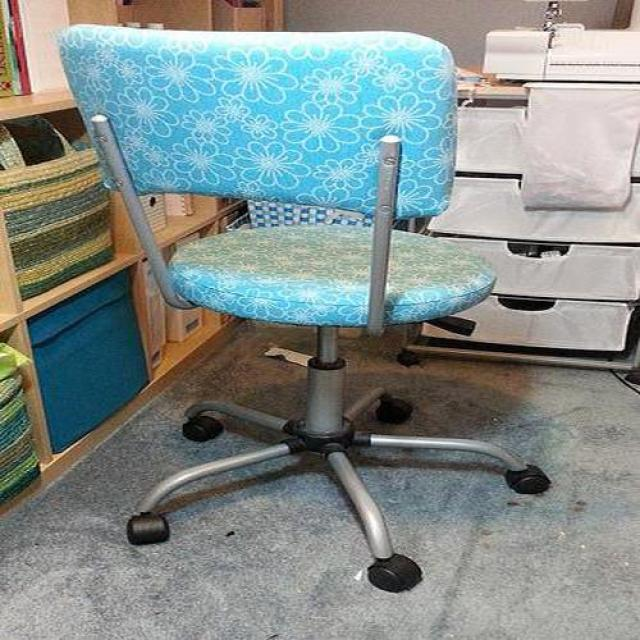swivelchair: (59, 24, 554, 595)
